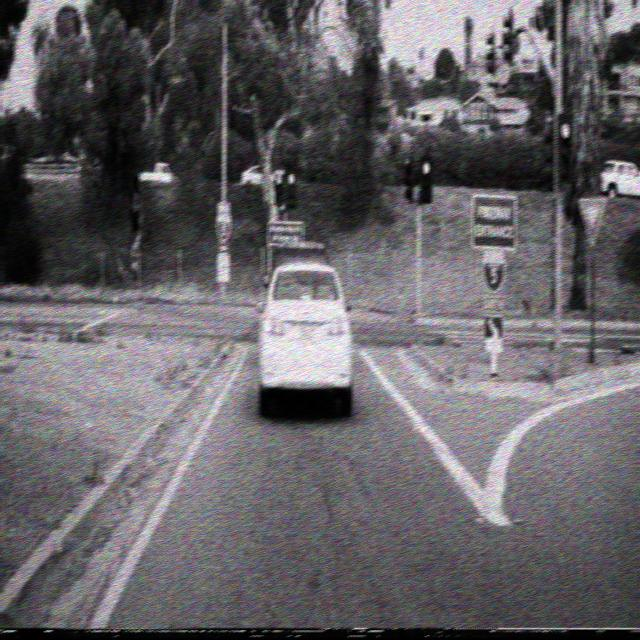yield: (577, 196, 607, 247)
